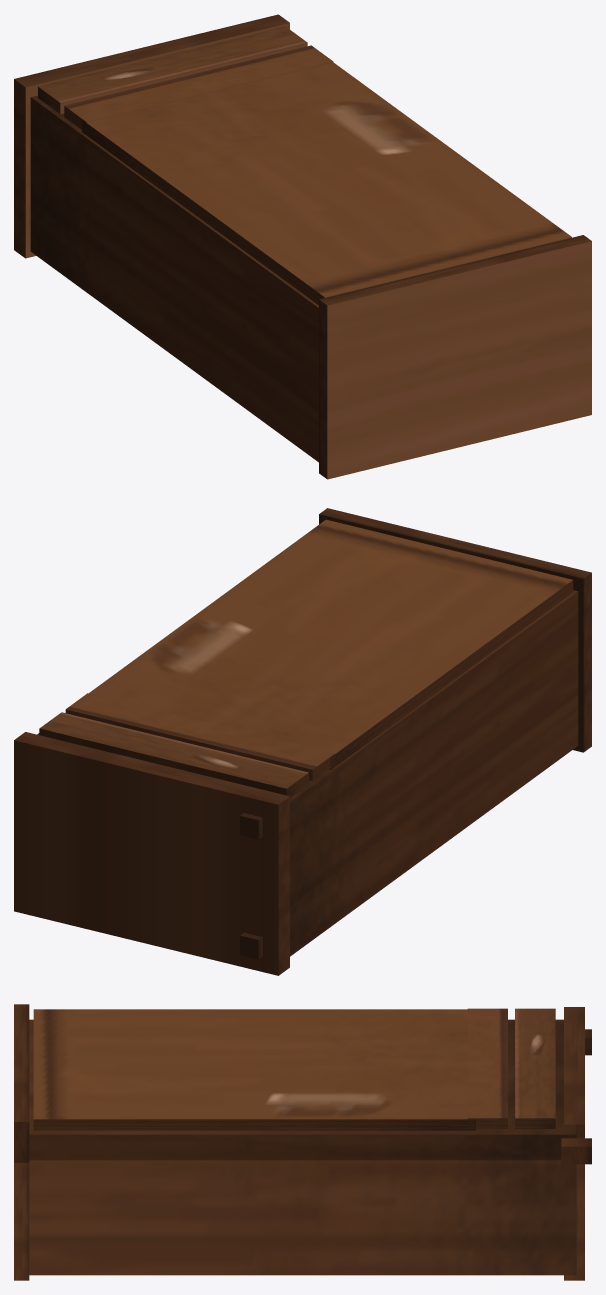
File: pz_wardrobe_storage_01_oak_0_0.obj
The picture shows the model from 3 angles, top to bottom: view 1: azimuth 30°, elevation 25°; view 2: azimuth 150°, elevation 25°; view 3: azimuth 270°, elevation 25°; orthographic projection. The views are drawn at different scales.
Size of the model in its own units: 0.995 by 0.625 by 2.07.
1 material, 1 textured.
